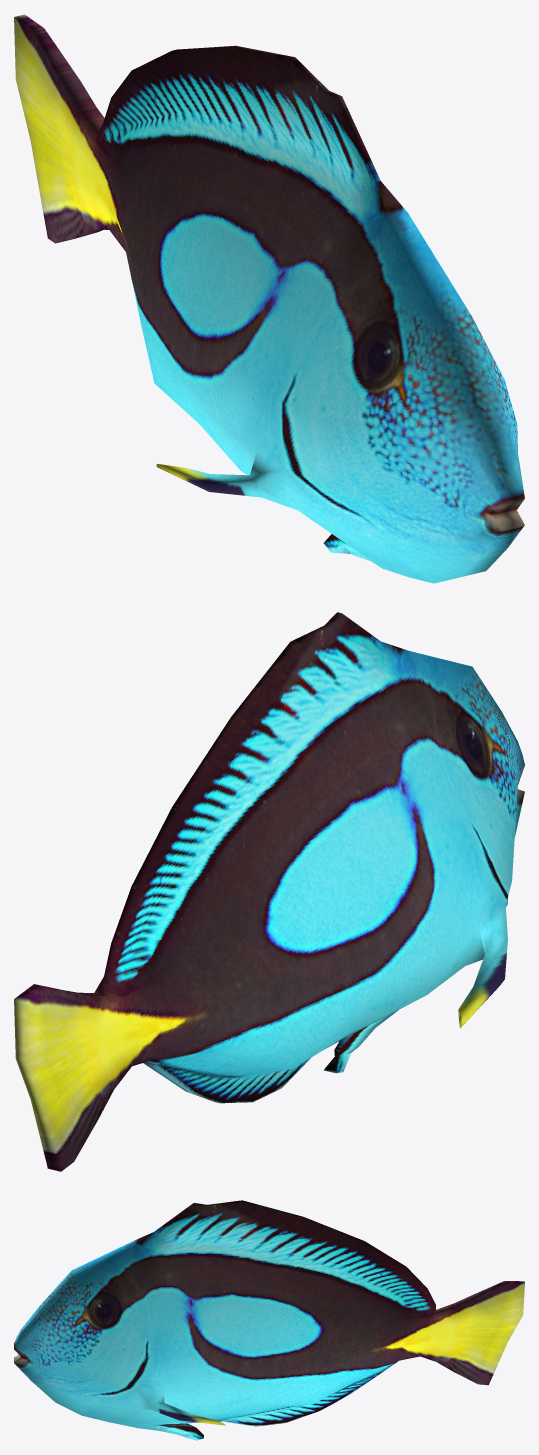
Rendered from fish2.glb.
3 renders of one model, top to bottom at view 1: azimuth 30°, elevation 25°; view 2: azimuth 150°, elevation 25°; view 3: azimuth 270°, elevation 25°, orthographic. The views are drawn at different scales.
Parts seen in each view (by area): view 1: Asset3DLoader.sceneRoot; view 2: Asset3DLoader.sceneRoot; view 3: Asset3DLoader.sceneRoot.
Part boxes in pixels (<box>): Asset3DLoader.sceneRoot: <box>14,14,524,583</box>; Asset3DLoader.sceneRoot: <box>14,612,524,1171</box>; Asset3DLoader.sceneRoot: <box>14,1200,524,1440</box>.
Bounding box in the file's own units: 165 × 235 × 457.
Materials: 1 (1 with a texture image).
